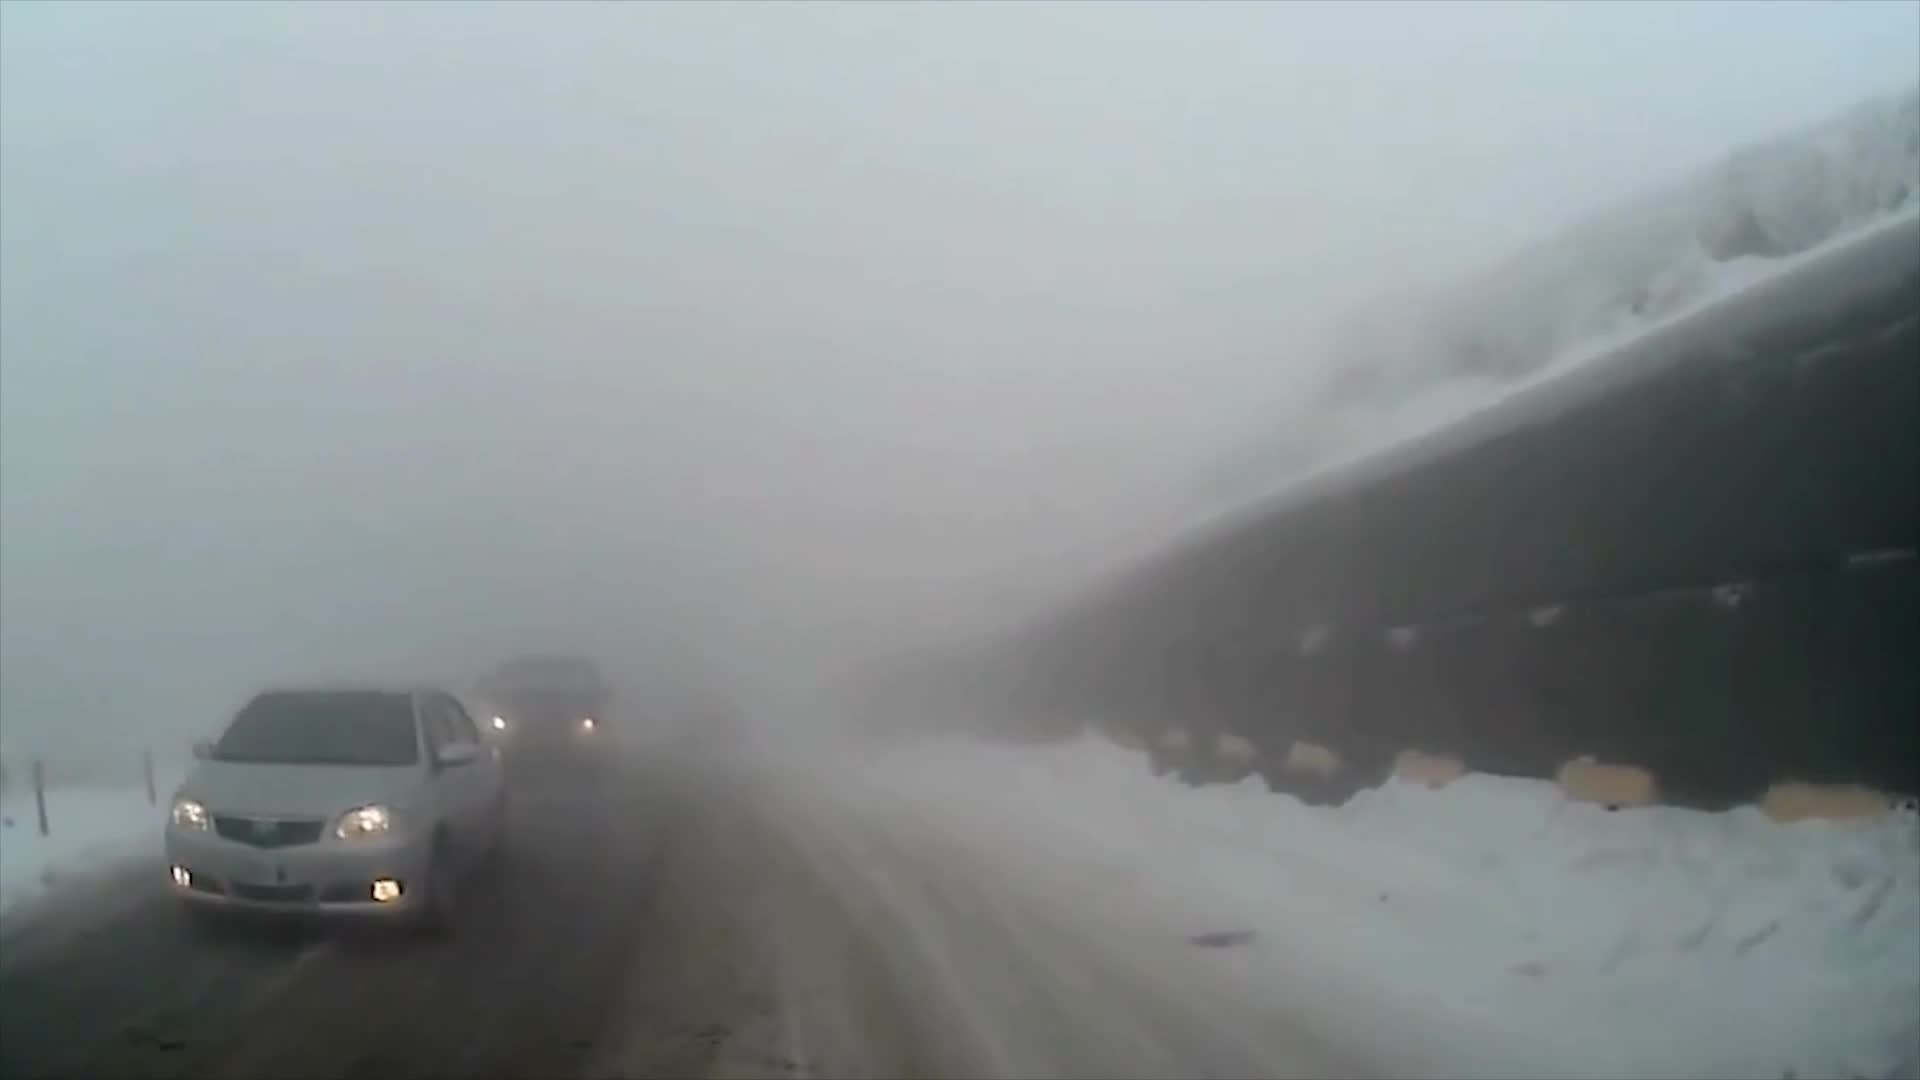vehicle: (156, 683, 514, 945), (477, 651, 615, 775)
